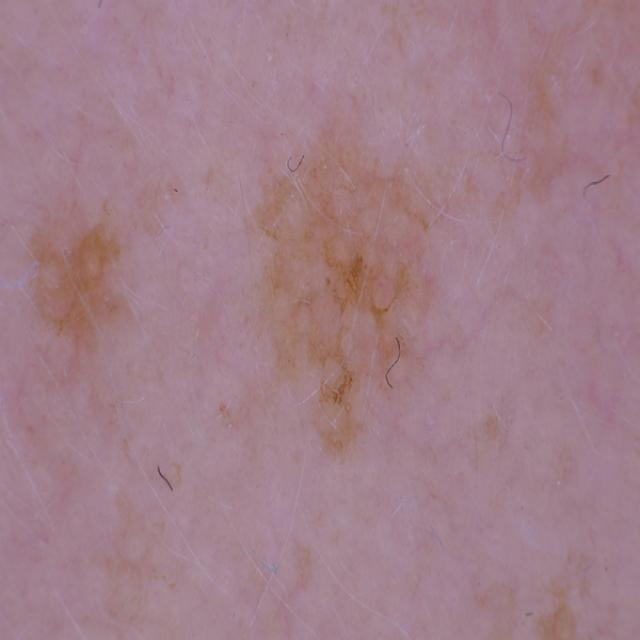Skin-Cancer Pigmented benign keratosis: (2, 26, 600, 640)
